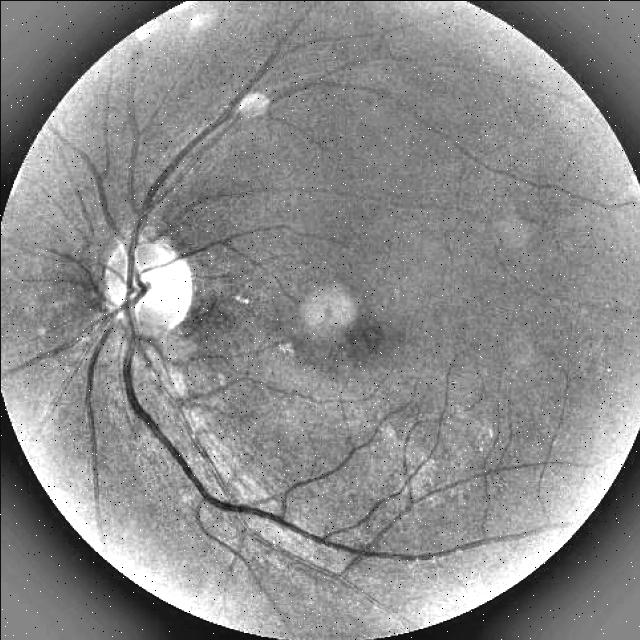Macula: (331, 288, 418, 379)
Nerves: (105, 286, 533, 580), (117, 0, 326, 332)
Optic Disk: (69, 215, 223, 373)
